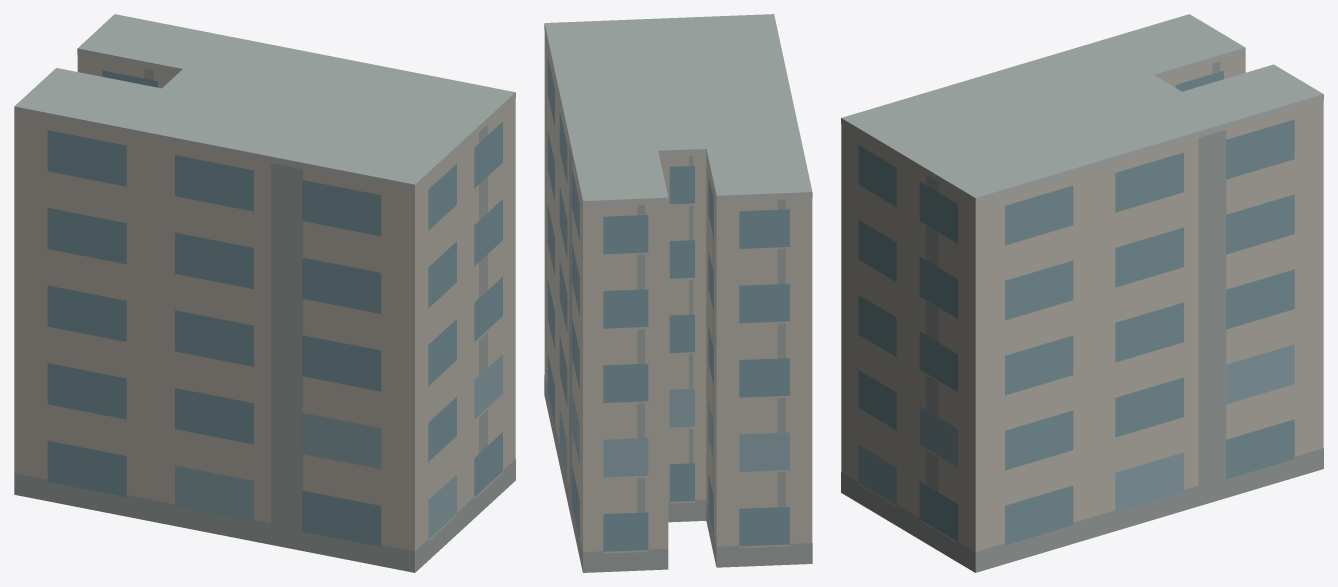
Rendered from survey-upis-32976500.glb.
The picture shows the model from 3 angles, left to right: view 1: azimuth 30°, elevation 25°; view 2: azimuth 150°, elevation 25°; view 3: azimuth 270°, elevation 25°; orthographic projection. The views are drawn at different scales.
Parts seen in each view (by area): view 1: survey-upis-32976500.tmp; view 2: survey-upis-32976500.tmp; view 3: survey-upis-32976500.tmp.
Part boxes in pixels (x1=…): survey-upis-32976500.tmp: x1=14, y1=14, x2=515, y2=572; survey-upis-32976500.tmp: x1=544, y1=14, x2=812, y2=572; survey-upis-32976500.tmp: x1=841, y1=14, x2=1323, y2=572.
Bounding box in the file's own units: 15.17 × 14.4 × 16.81.
